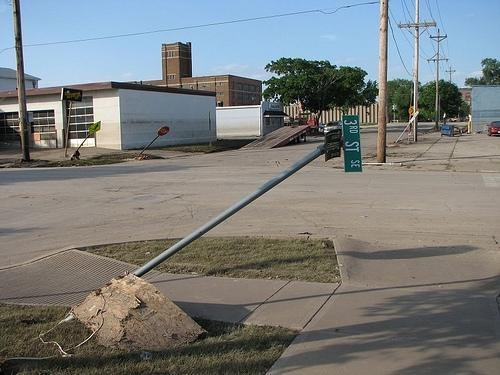car: (440, 124, 462, 138), (487, 121, 500, 137), (324, 121, 339, 134)
